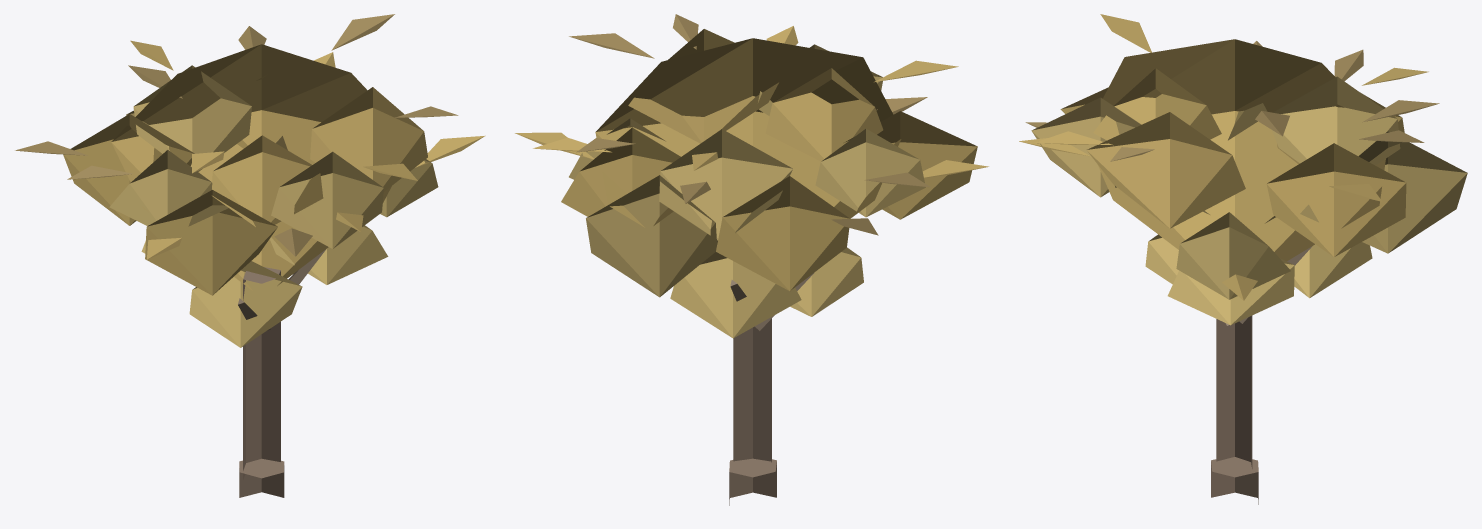
Rendered from shu.xiangzhang__autumn.glb.
3 renders of one model, left to right at view 1: azimuth 30°, elevation 25°; view 2: azimuth 150°, elevation 25°; view 3: azimuth 270°, elevation 25°, orthographic. The views are drawn at different scales.
Parts seen in each view (by area): view 1: shu.xiangzhang__autumn; view 2: shu.xiangzhang__autumn; view 3: shu.xiangzhang__autumn.
Boxes of the visible parts, <box> form: shu.xiangzhang__autumn: <box>15,14,485,497</box>; shu.xiangzhang__autumn: <box>515,14,988,505</box>; shu.xiangzhang__autumn: <box>1019,14,1467,504</box>.
Size of the model in its own units: 17.03 by 17.47 by 15.63.
